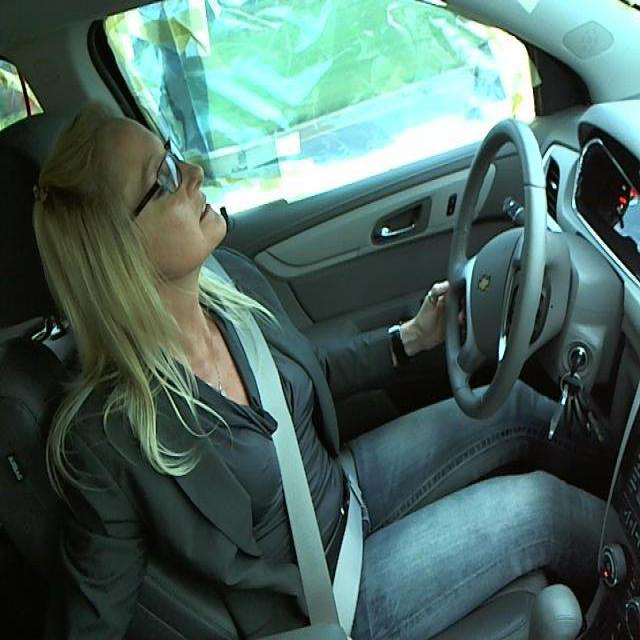seatbelt: (216, 302, 381, 630)
